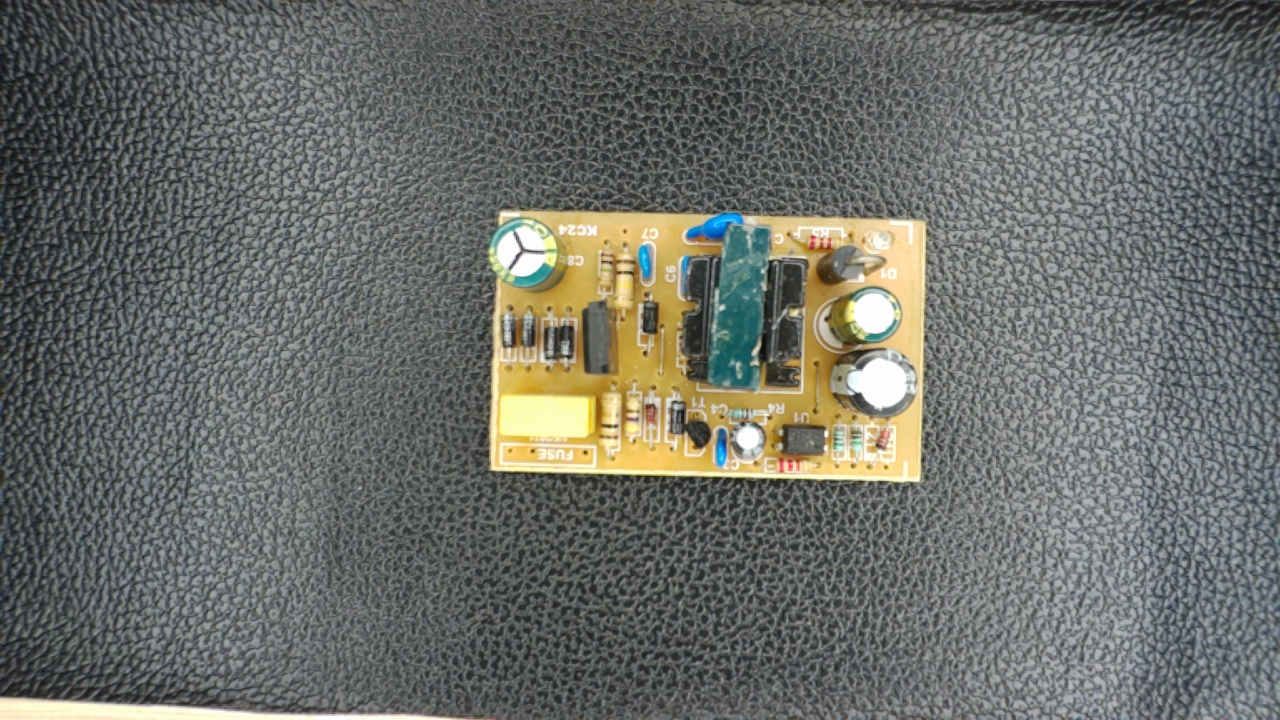hv_capacitor: (486, 221, 564, 296)
mov: (683, 212, 761, 242)
optocoupler: (770, 422, 831, 459)
